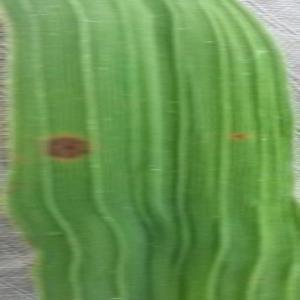Brown_Spot: (36, 128, 95, 165), (229, 128, 248, 144)
